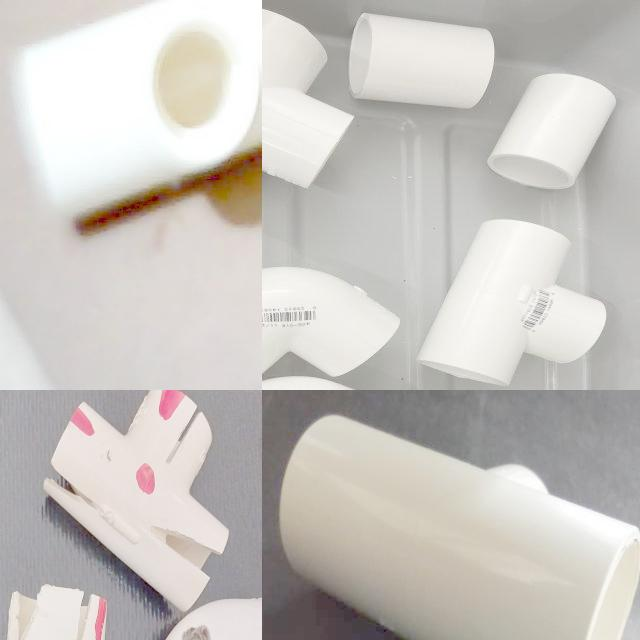Defective: (9, 390, 37, 433), (0, 541, 13, 576), (20, 521, 34, 546)
L Joint: (262, 267, 401, 378)
T Joint: (418, 220, 609, 389), (262, 12, 356, 191)
